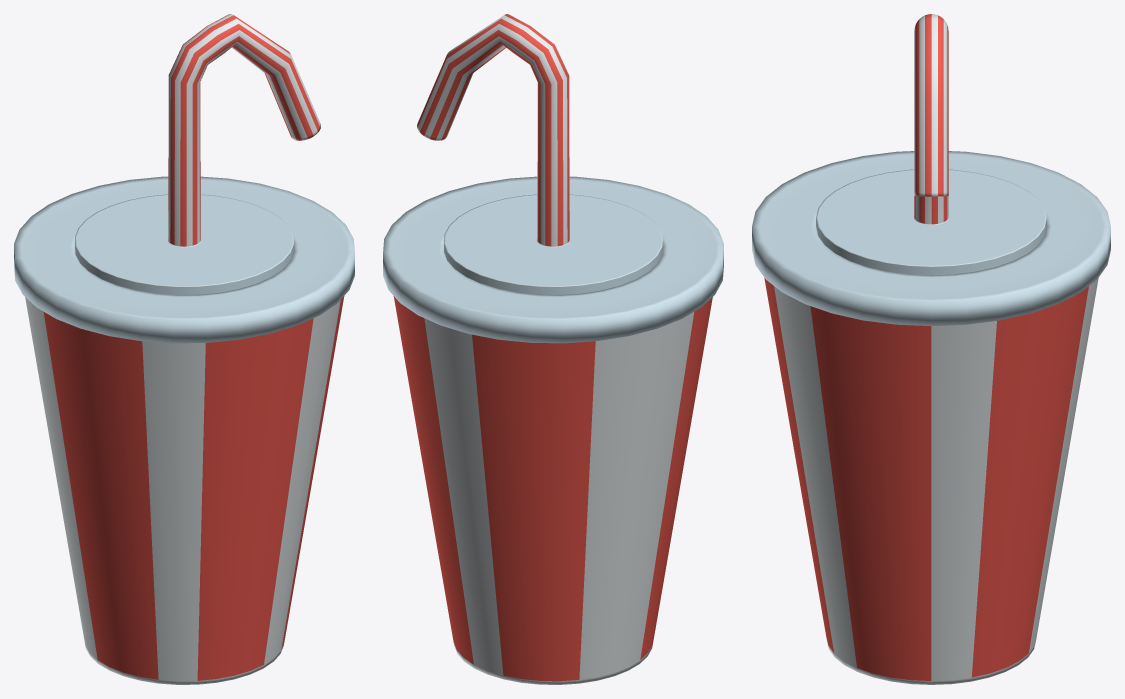
File: Gaseosa.fbx
3 renders of one model, left to right at view 1: azimuth 30°, elevation 25°; view 2: azimuth 150°, elevation 25°; view 3: azimuth 270°, elevation 25°, orthographic. The views are drawn at different scales.
Visible parts, largest first — view 1: Cylinder; view 2: Cylinder; view 3: Cylinder.
Boxes of the visible parts, bbox=[...] form: Cylinder: bbox=[14, 14, 354, 684]; Cylinder: bbox=[383, 14, 723, 684]; Cylinder: bbox=[752, 14, 1110, 684].
Size of the model in its own units: 343 by 683 by 343.
